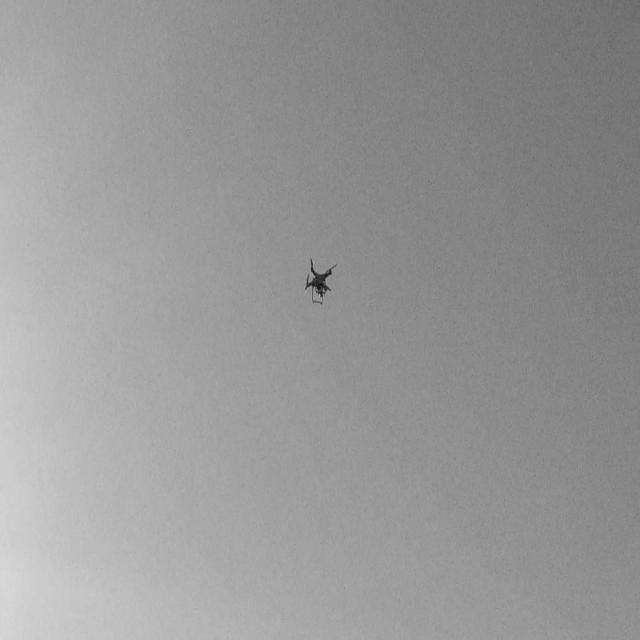drone: (302, 255, 340, 311)
